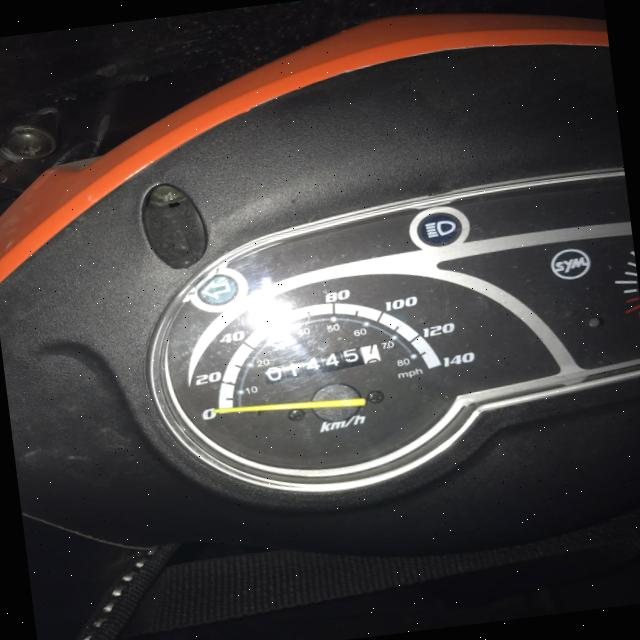odometer: (260, 341, 384, 386)
